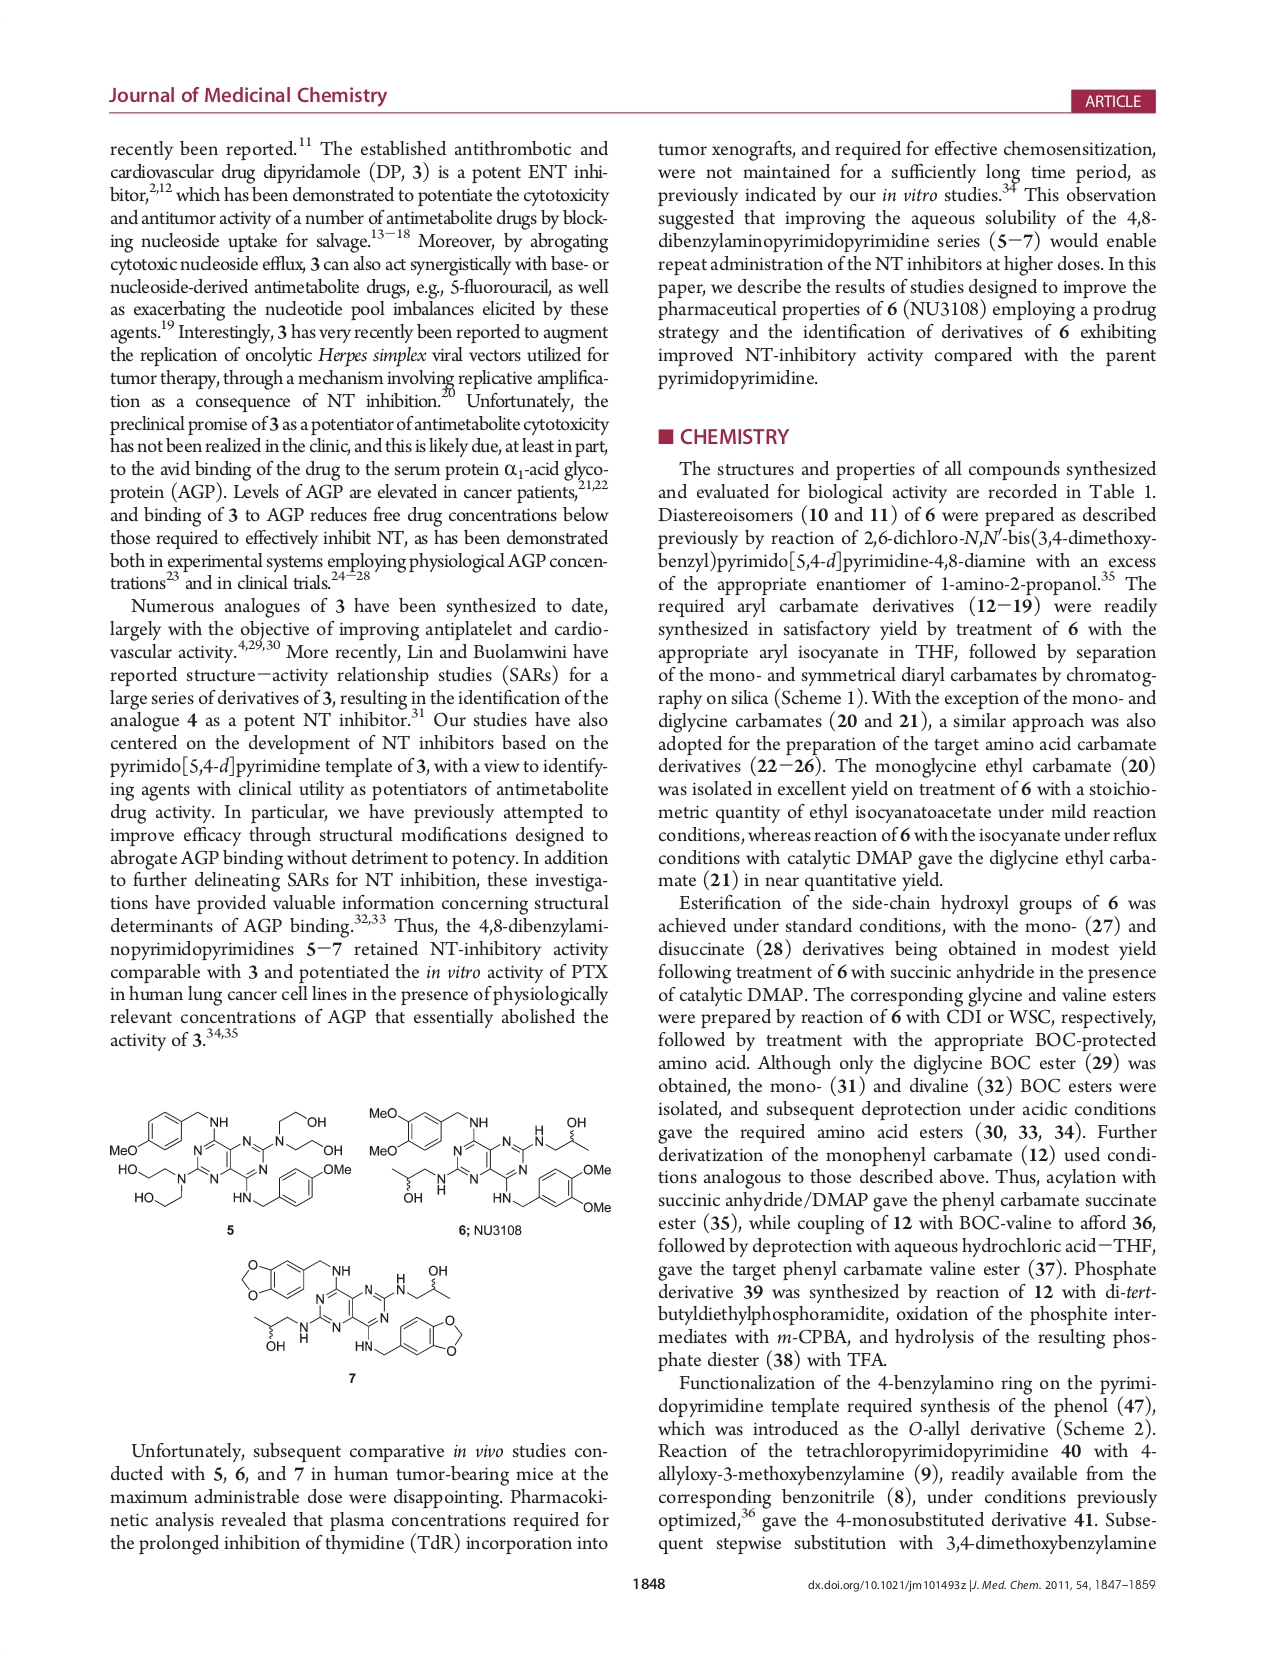exist_molecular: (367, 1102, 613, 1220), (108, 1106, 355, 1212), (235, 1254, 465, 1359)
